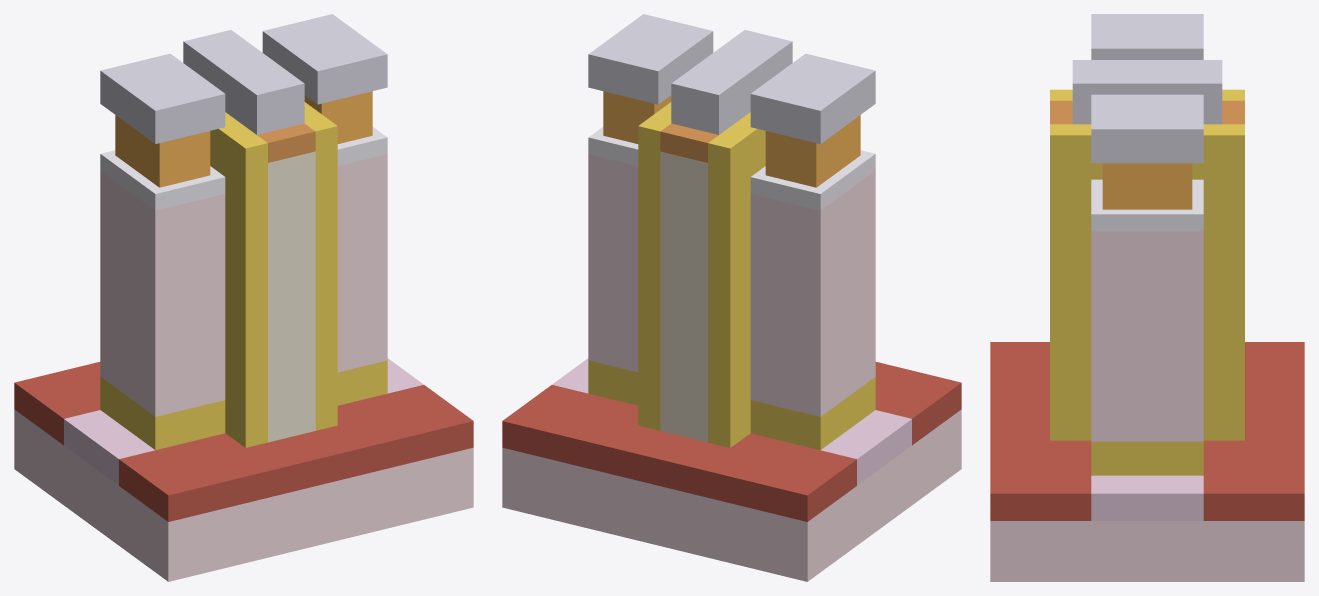
3 views of the same model, side by side, from view 1: azimuth 30°, elevation 25°; view 2: azimuth 150°, elevation 25°; view 3: azimuth 270°, elevation 25° (orthographic).
Visible parts, largest first — view 1: substrate, sti, epi_source, spacer_source, mo, epi_drain, w_source, gatew, w_drain, spacer_drain, bdi, pts (+5 smaller); view 2: substrate, sti, epi_source, spacer_source, mo, epi_drain, w_source, gatew, w_drain, spacer_drain, bdi, pts (+5 smaller); view 3: sti, spacer_drain, epi_drain, substrate, w_drain, gatew, pts, w_source, ni_drain, bdi, nisi_drain, gatecap (+1 smaller).
Boxes of the visible parts, x1,y1,x2,y2 form: substrate: (14,409,473,581); sti: (14,362,473,521); epi_source: (100,170,225,416); spacer_source: (210,112,267,447); mo: (268,151,315,442); epi_drain: (337,154,387,372); w_source: (100,53,225,143); gatew: (183,30,304,134); w_drain: (262,14,387,104); spacer_drain: (304,102,337,430); bdi: (100,360,387,450); pts: (64,358,423,485); substrate: (502,409,961,581); sti: (502,362,961,521); epi_source: (750,170,875,416); spacer_source: (708,112,765,447); mo: (660,151,707,442); epi_drain: (588,154,638,372); w_source: (750,53,875,143); gatew: (671,30,792,134); w_drain: (588,14,713,104); spacer_drain: (638,102,671,430); bdi: (588,360,875,450); pts: (552,358,911,485); sti: (990,342,1304,520); spacer_drain: (1050,124,1244,440); epi_drain: (1091,231,1203,441); substrate: (990,521,1304,581); w_drain: (1091,94,1203,163); gatew: (1072,60,1222,124); pts: (1091,475,1203,520); w_source: (1091,14,1203,59); ni_drain: (1102,163,1192,209); bdi: (1091,441,1203,475); nisi_drain: (1091,179,1203,231); gatecap: (1050,100,1244,124).
Size of the model in its own units: 96 by 128 by 84.
